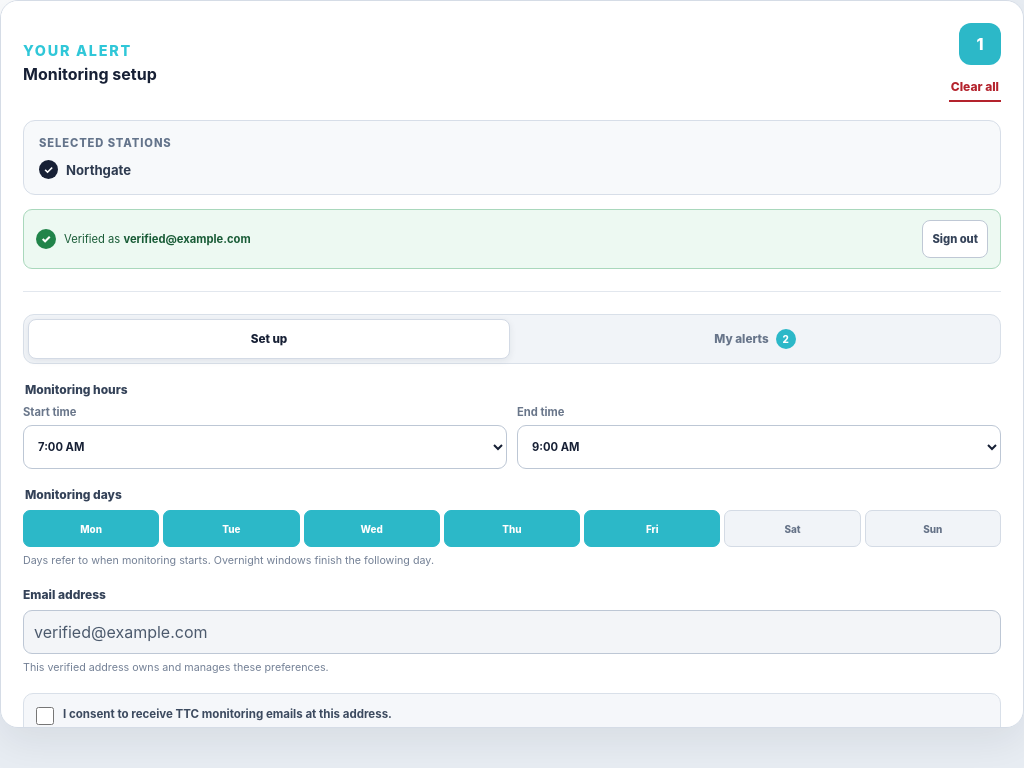
Test: secure monitoring preferences › expands and deletes one numbered alert without removing the others
Click the tab "My alerts 2" at (755, 339), box [514,319,996,359]
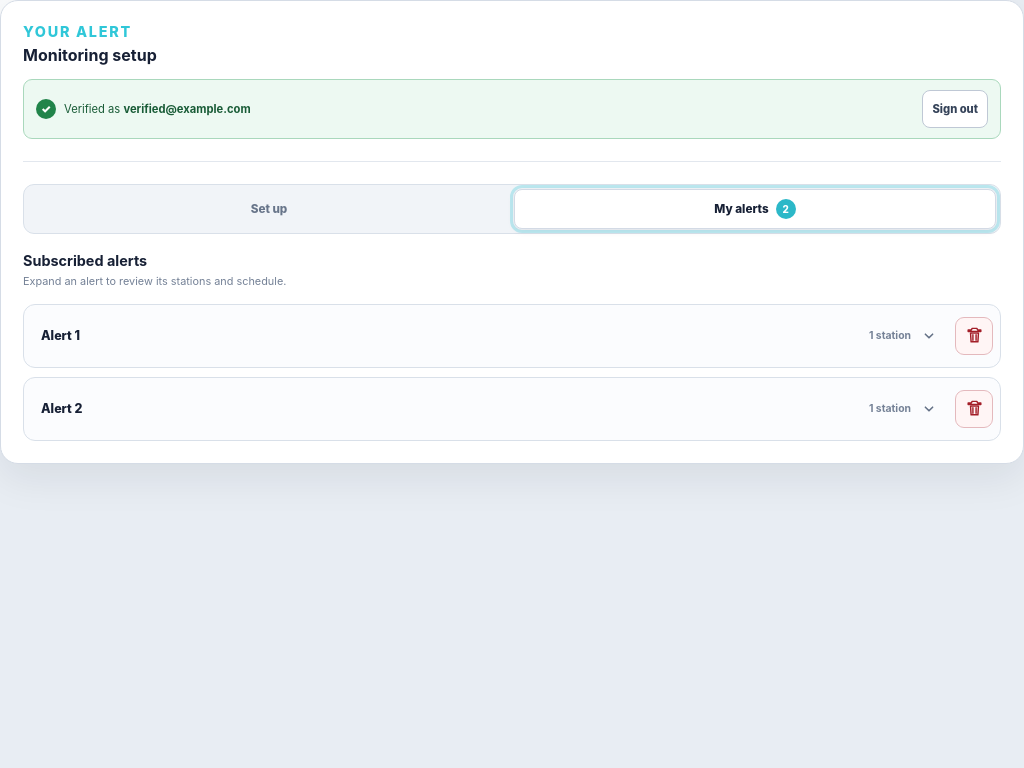
Click the button "Alert 1 1 station" at (58, 336), box [31,312,948,360]
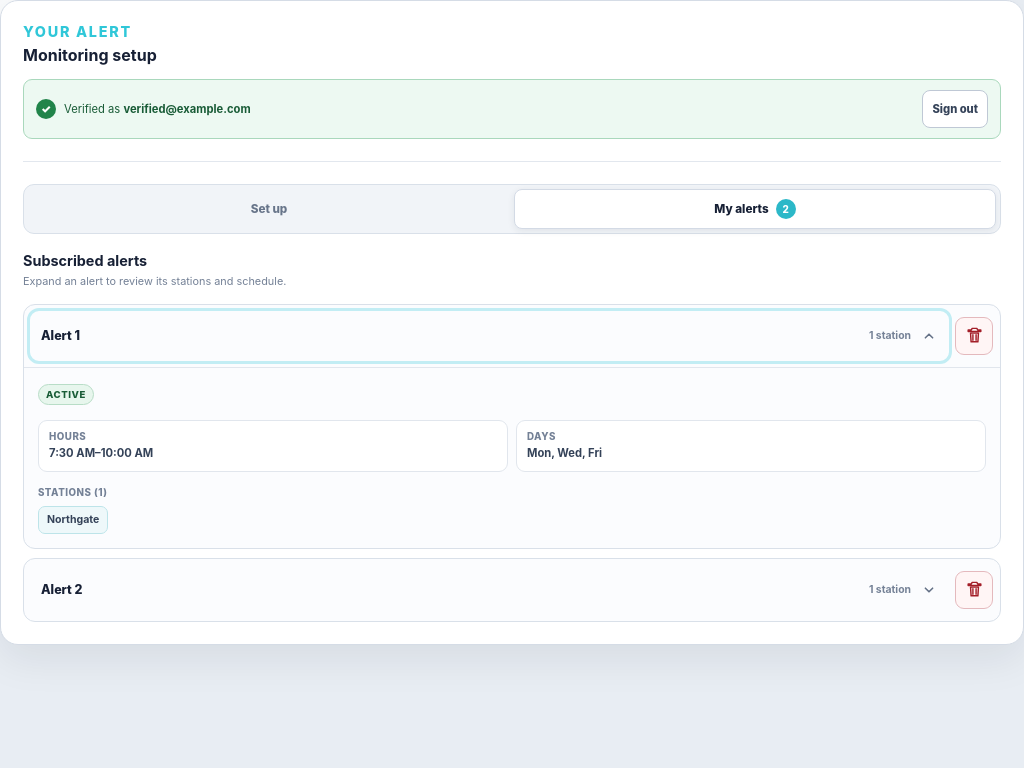
Expected: the text "7:30 AM–10:00 AM" is shown, [49,446,153,460]
Click the button named "open delete confirmation for alert 1" at (974, 336), box [955,317,993,355]
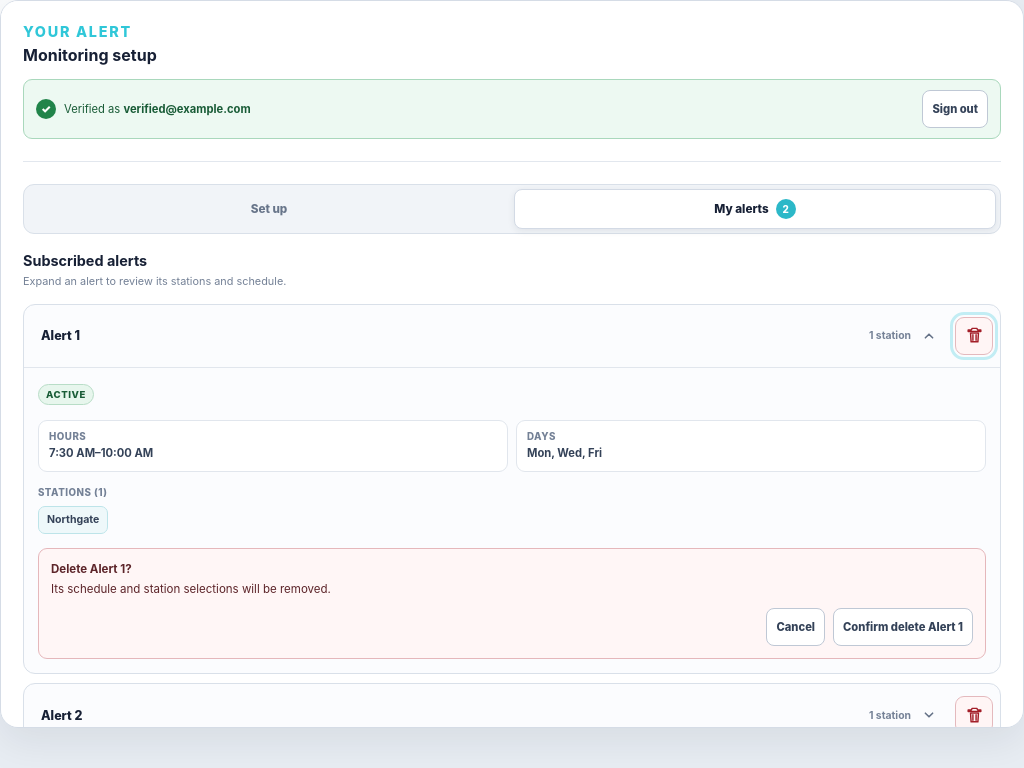
Click the button "Confirm delete Alert 1" at (903, 627), box [833,608,973,646]
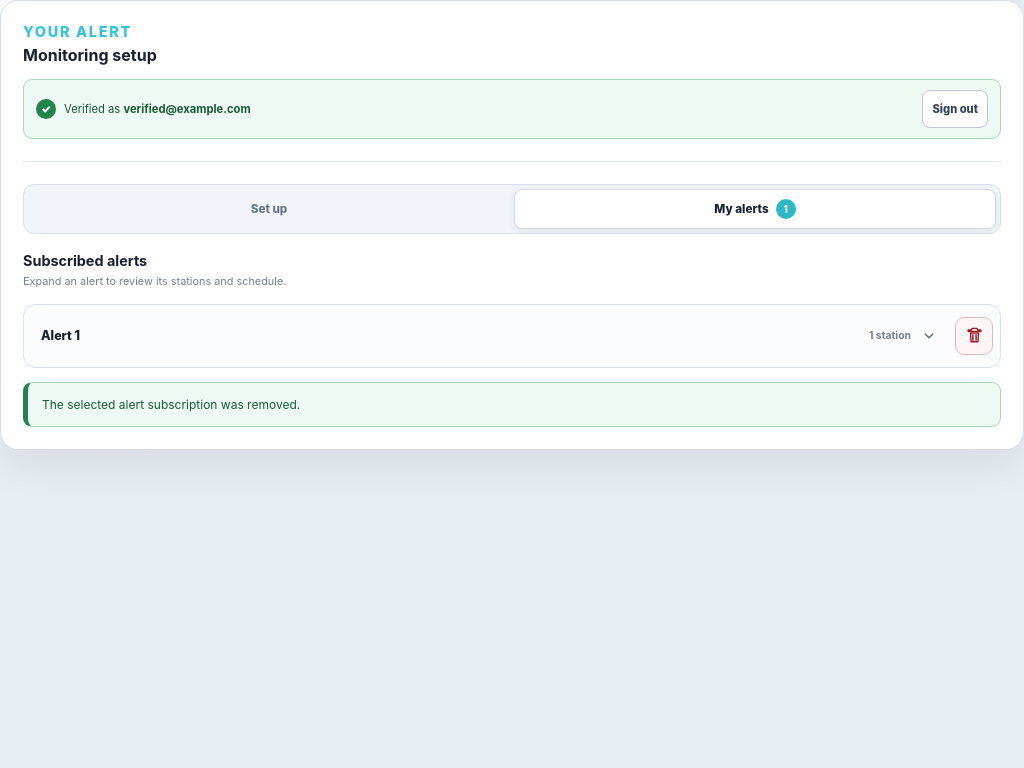
Expected: the button "Alert 2" is gone
Expected: the button "Alert 1 1 station" is shown, [31,312,948,360]
Expected: the message shows "selected alert subscription was removed", [42,397,300,412]
